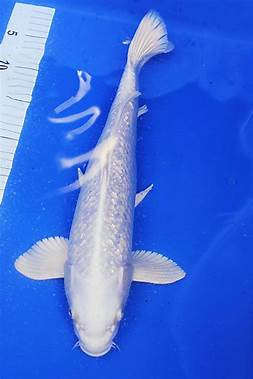white: (14, 6, 188, 357)
